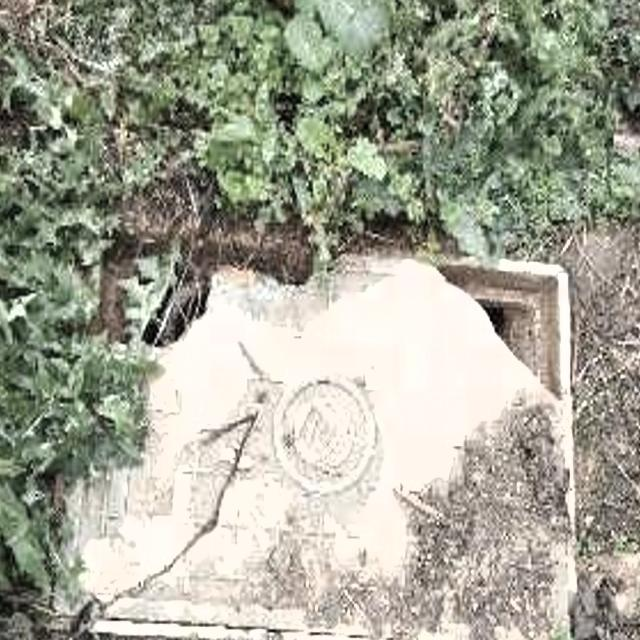broke: (23, 234, 577, 640)
